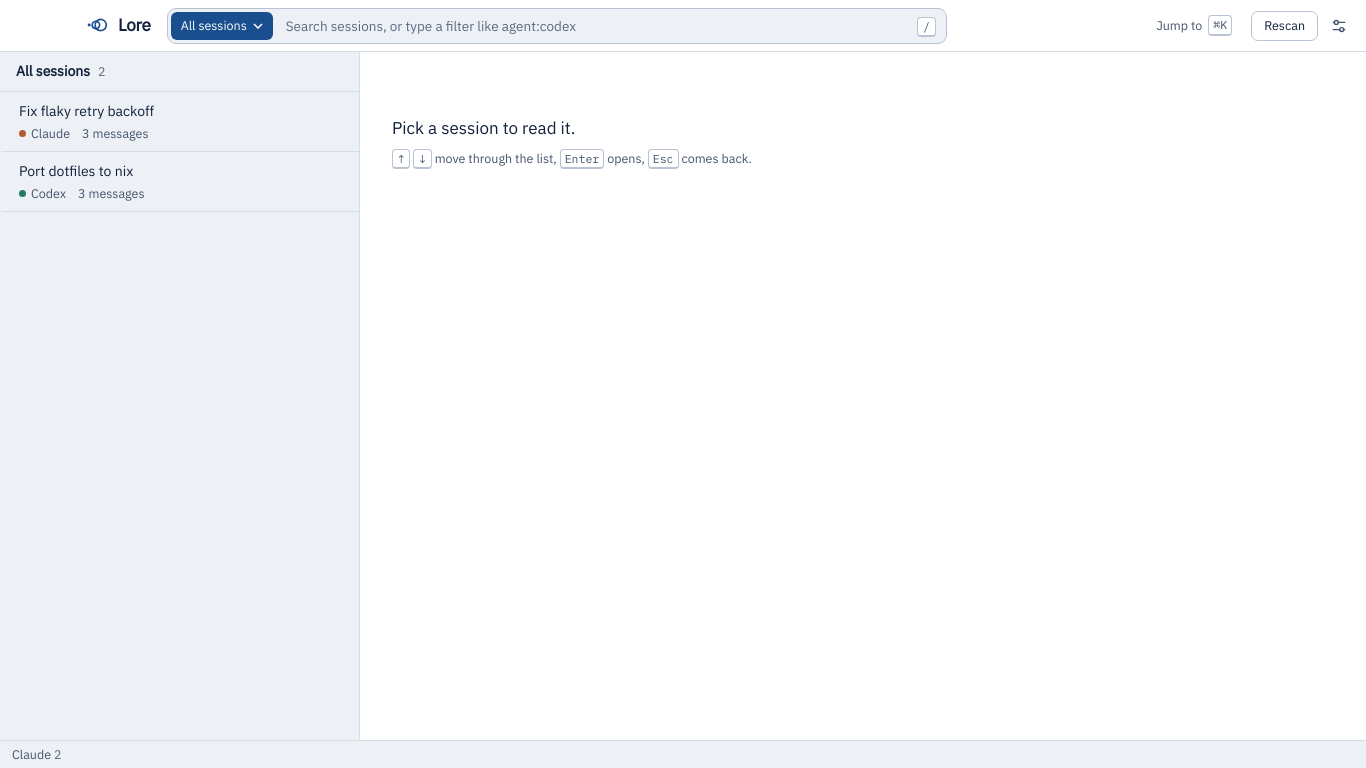
session actions › files the open session into a folder
The image size is (1366, 768).
Click the option "Fix flaky retry backoff Claude 3 messages".
click(87, 111)  # box [0,92,359,152]
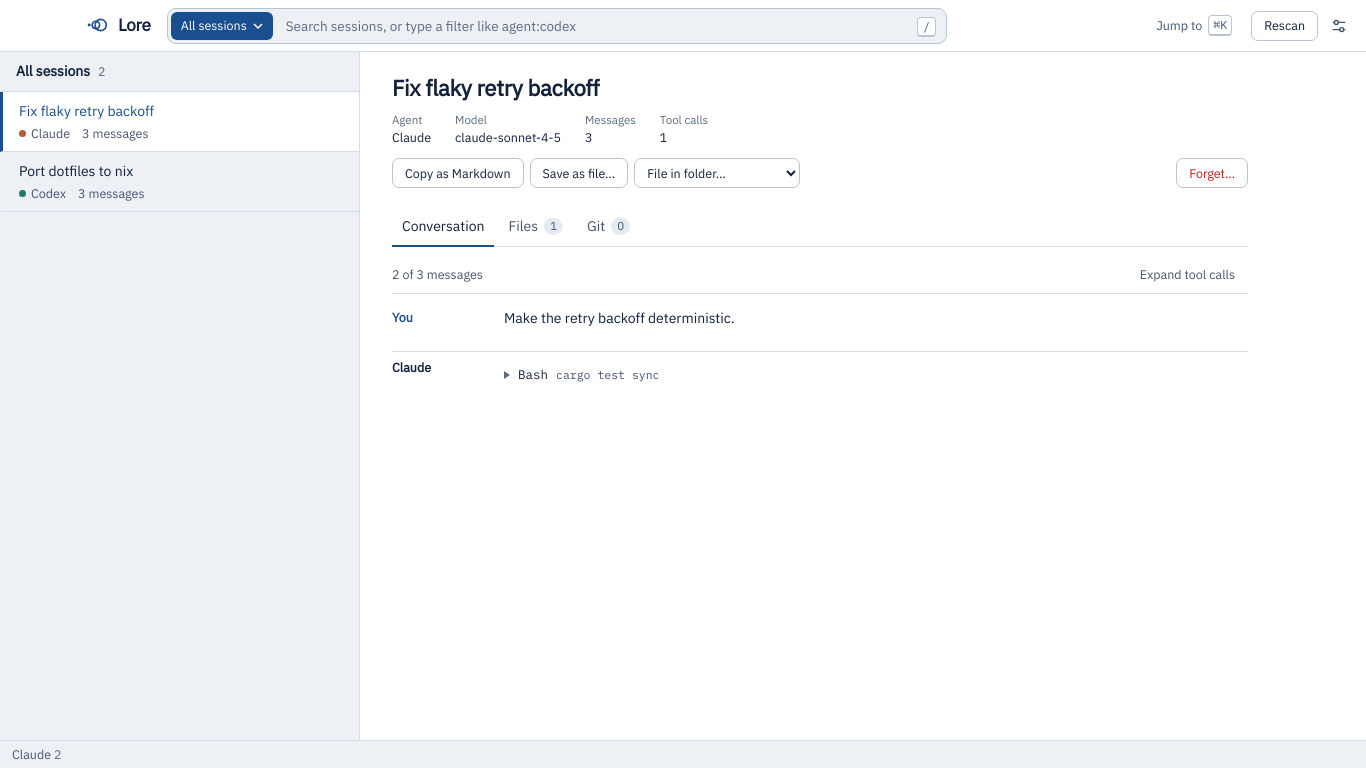
Expected: the element "Fix flaky retry backoff" is shown, [360,52,1280,449]
Select "Release prep" in the dropdown named "File in folder" at (717, 173), box [634,158,800,188]
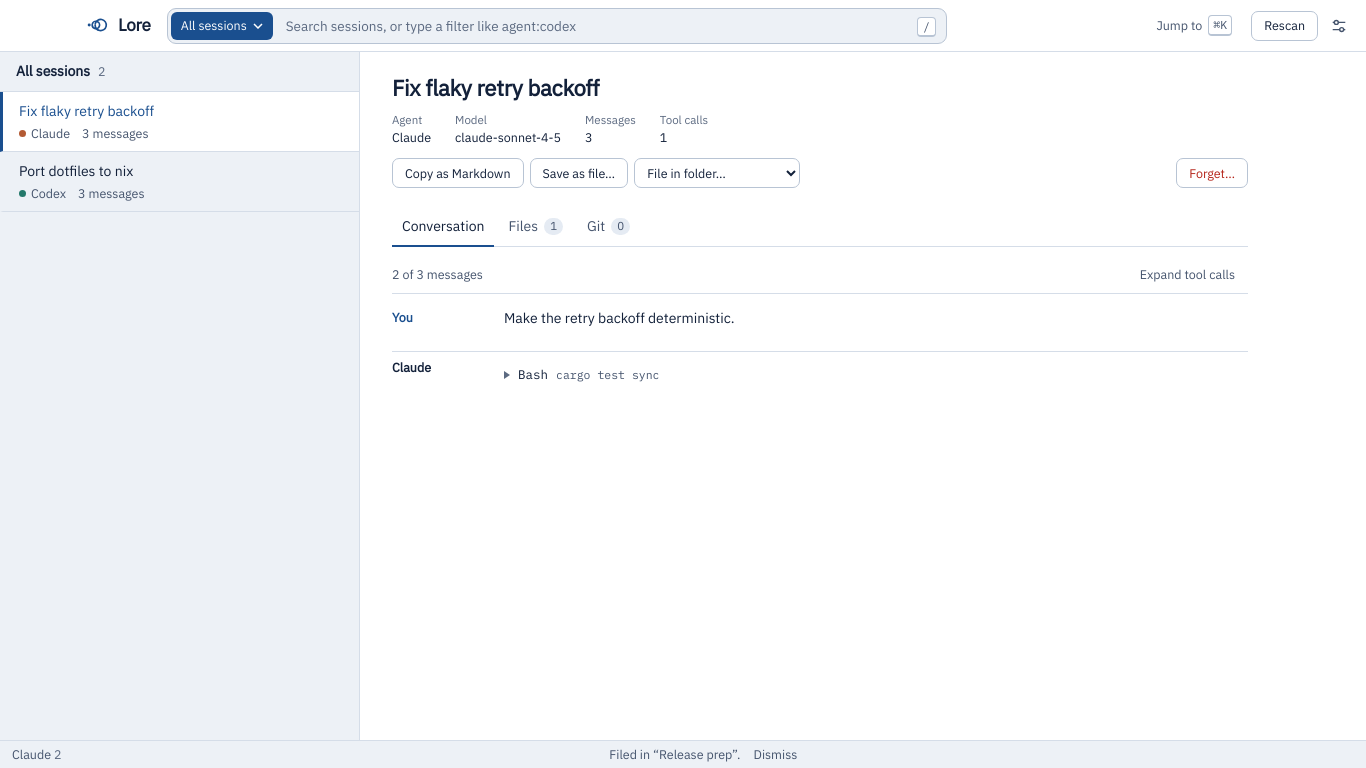
Expected: the text "Filed in “Release prep”." is shown, [609,745,740,764]
